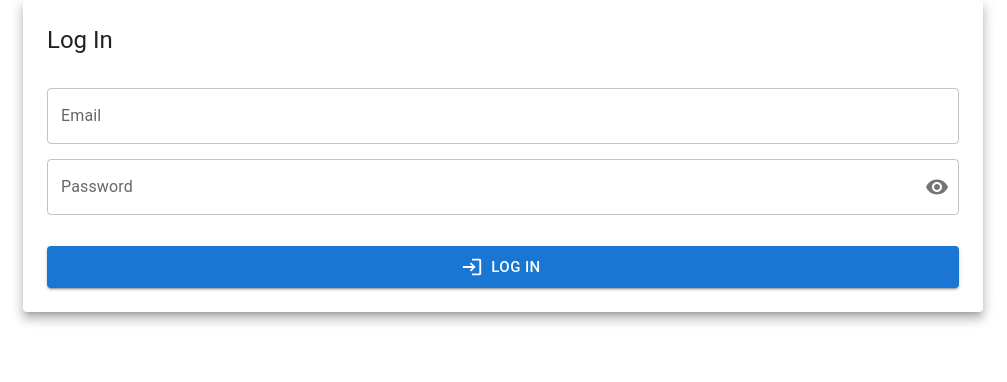
Test: Login › Password Field › should validate password length correctly
Step 1. Type "12345" into the password field with test id "login-password-input" → (478, 187), box [47,159,909,215]
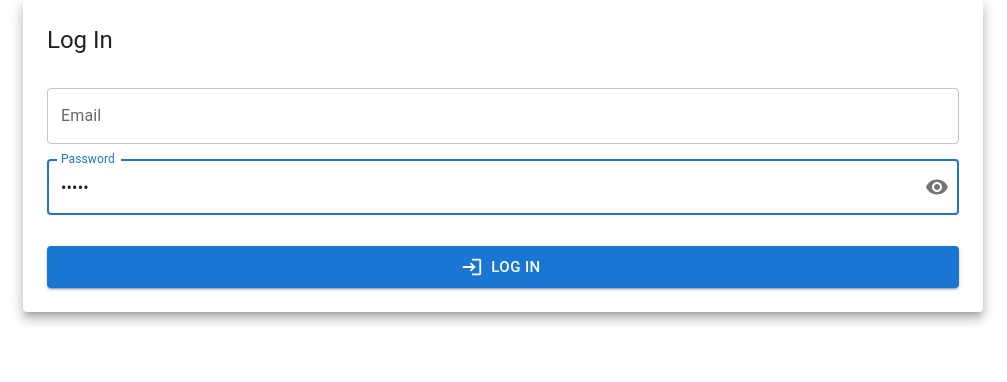
Step 2. Click the button with test id "login-submit-button" → (503, 267), box [47,246,959,288]
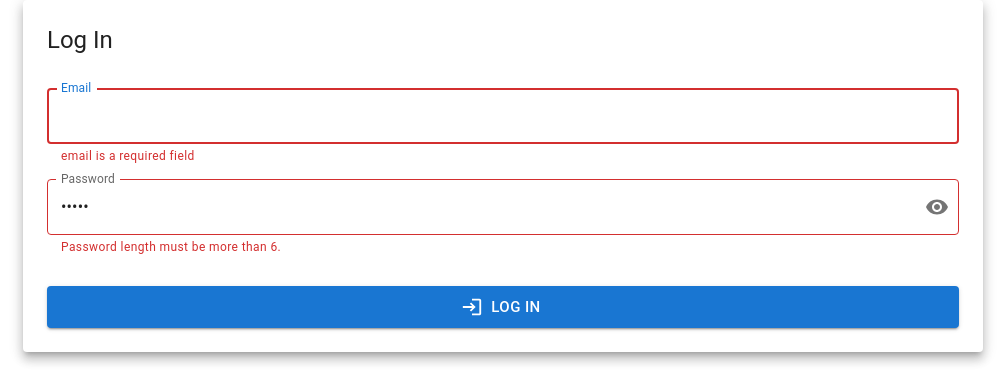
Expected: the text with test id "login-password-error" reads "Password length must be more than 6.", [61,240,281,254]
